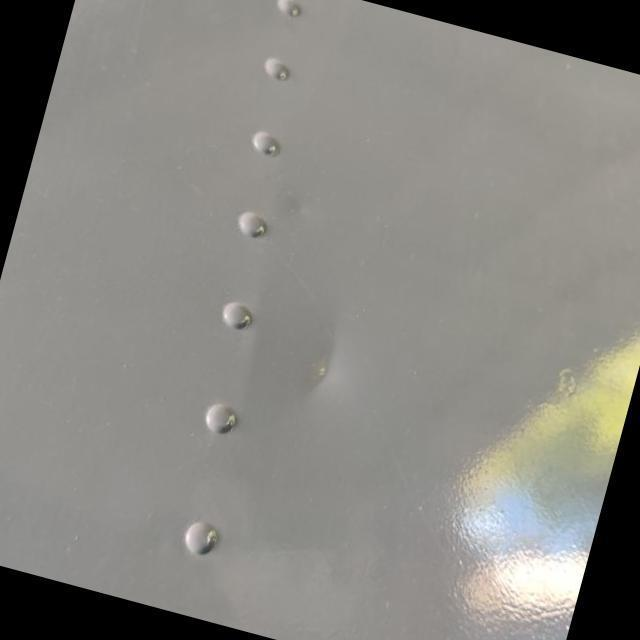Dent: (262, 293, 383, 428)
